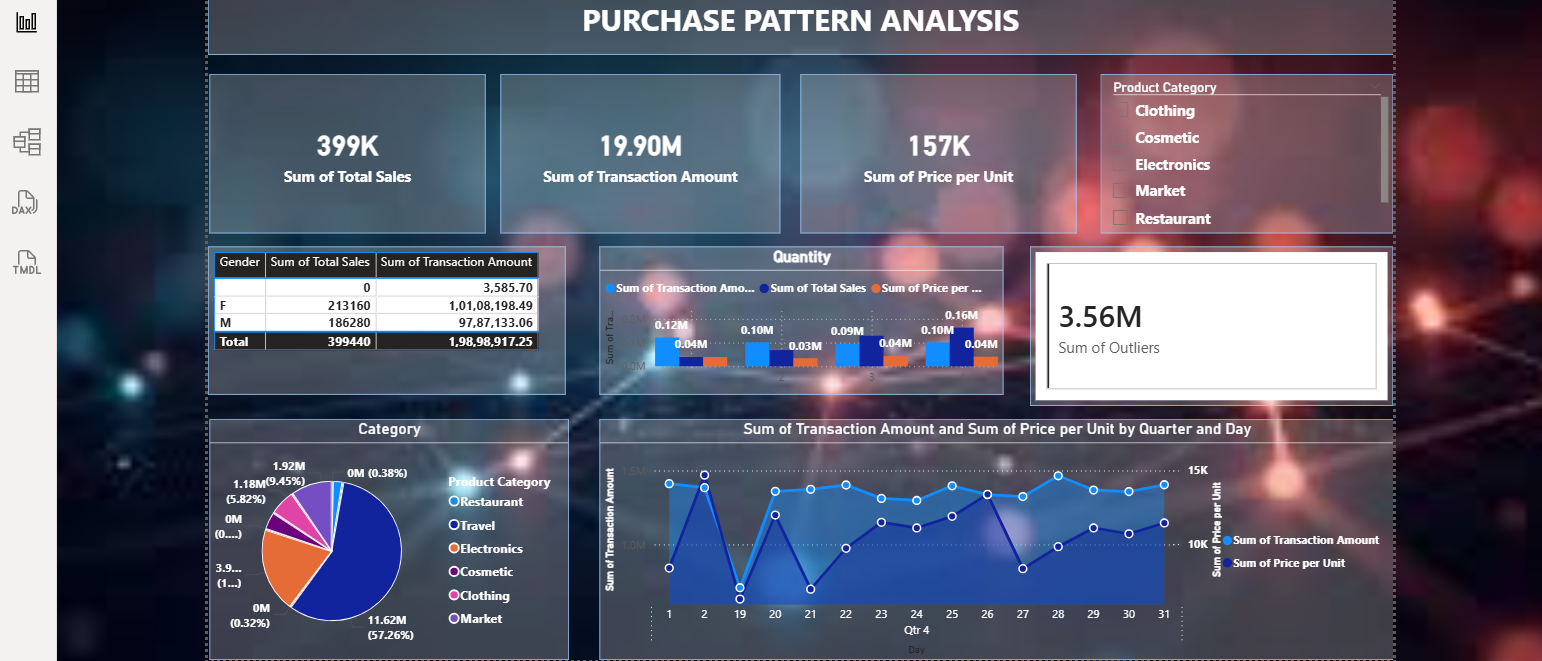

What the dashboard file says about the page in this screenshot:
{"tool":"powerbi","page":{"name":"Page 1","canvas":[1280,720],"ordinal":0},"visuals":[{"type":"textbox","box":[0,0,1280,66.7],"z":0},{"type":"tableEx","title":"Gender","fields":{"Values":["Transactions_dataset.Gender","Sum(Transactions_dataset.Total Sales)","Sum(Transactions_dataset.Transaction Amount)"]},"box":[0,274,386,160],"z":1},{"type":"pieChart","title":"Category","fields":{"Category":["Transactions_dataset.Product Category"],"Y":["Sum(Transactions_dataset.Total Sales)","Sum(Transactions_dataset.Transaction Amount)"]},"box":[2,460,388,260],"z":2},{"type":"clusteredColumnChart","title":"Quantity","fields":{"Category":["Transactions_dataset.Quantity"],"Y":["Sum(Transactions_dataset.Transaction Amount)","Sum(Transactions_dataset.Total Sales)","Sum(Transactions_dataset.Price per Unit)"]},"box":[422,274,436,160],"z":3},{"type":"card","fields":{"Values":["Sum(Transactions_dataset.Total Sales)"]},"box":[2,88,298,172],"z":4},{"type":"card","fields":{"Values":["Sum(Transactions_dataset.Transaction Amount)"]},"box":[316,88,302,172],"z":5},{"type":"card","fields":{"Values":["Sum(Transactions_dataset.Price per Unit)"]},"box":[640,88,298,172],"z":6},{"type":"slicer","fields":{"Values":["Transactions_dataset.Product Category"]},"box":[964,88,316,172],"z":7},{"type":"cardVisual","fields":{"Data":["Sum(Transactions_dataset.Outliers)"]},"box":[888,274,392,172],"z":8},{"type":"lineChart","fields":{"Category":["Transactions_dataset.Birthdate.Variation.Date Hierarchy.Quarter","Transactions_dataset.Birthdate.Variation.Date Hierarchy.Day"],"Y2":["Sum(Transactions_dataset.Price per Unit)"],"Y":["Sum(Transactions_dataset.Transaction Amount)"]},"box":[422,460,858,260],"z":9}]}

Visuals, with their boxes on the page's 1280x720 design canvas (x1, y1, x2, y2). These are canvas units, not pixel positions in the 1542x661 screenshot, which may show the page scaled, cropped or inside an application window:
textbox: {"x1": 0, "y1": 0, "x2": 1280, "y2": 67}
"Gender" tableEx: {"x1": 0, "y1": 274, "x2": 386, "y2": 434}
"Category" pieChart: {"x1": 2, "y1": 460, "x2": 390, "y2": 720}
"Quantity" clusteredColumnChart: {"x1": 422, "y1": 274, "x2": 858, "y2": 434}
card - Sum(Transactions_dataset.Total Sales): {"x1": 2, "y1": 88, "x2": 300, "y2": 260}
card - Sum(Transactions_dataset.Transaction Amount): {"x1": 316, "y1": 88, "x2": 618, "y2": 260}
card - Sum(Transactions_dataset.Price per Unit): {"x1": 640, "y1": 88, "x2": 938, "y2": 260}
slicer - Transactions_dataset.Product Category: {"x1": 964, "y1": 88, "x2": 1280, "y2": 260}
cardVisual - Sum(Transactions_dataset.Outliers): {"x1": 888, "y1": 274, "x2": 1280, "y2": 446}
lineChart - Transactions_dataset.Birthdate.Variation.Date Hierarchy.Quarter x Transactions_dataset.Birthdate.Variation.Date Hierarchy.Day: {"x1": 422, "y1": 460, "x2": 1280, "y2": 720}
